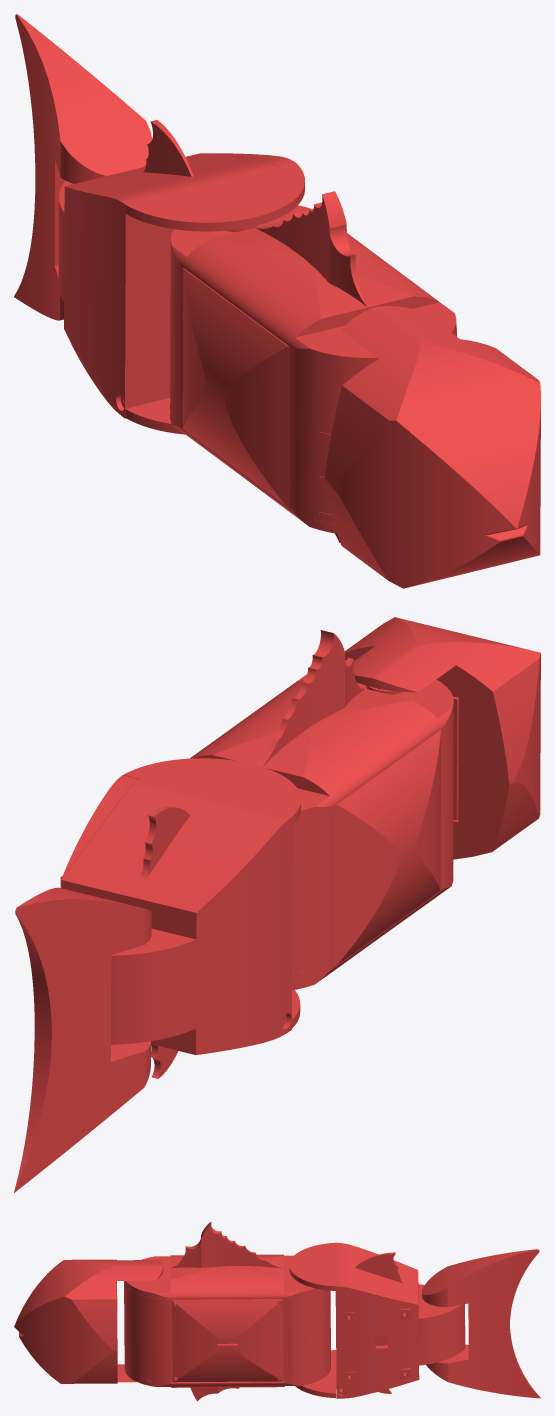
3 renders of one model, top to bottom at view 1: azimuth 30°, elevation 25°; view 2: azimuth 150°, elevation 25°; view 3: azimuth 270°, elevation 25°, orthographic. The views are drawn at different scales.
Parts seen in each view (by area): view 1: 上面 (1), Body16, Body18.001, 右デザイン追加壁, Body9, Body18, Body14, 頭側の中心ギアパイプ2, Body13, Body113, Body19, Body22 (+5 smaller); view 2: Body9, Body18.001, 上面 (1), 右デザイン追加壁, Body19, 頭側の中心ギアパイプ2, Body16.001, Body14, Body13, Body113, Body16, ネジ蓋横 (+8 smaller); view 3: 上面 (1), Body44, Body9, Body26.001, Body16, Body15, 頭側の中心ギアパイプ2, Body16.001, Body19, Body113, Body13, 上面 (1) (1) (+11 smaller).
Boxes of the visible parts, x1=… form: 上面 (1): x1=170, y1=205, x2=456, y2=523; Body16: x1=343, y1=339, x2=540, y2=588; Body18.001: x1=64, y1=186, x2=173, y2=418; 右デザイン追加壁: x1=182, y1=268, x2=289, y2=506; Body9: x1=14, y1=14, x2=151, y2=319; Body18: x1=396, y1=374, x2=540, y2=526; Body14: x1=325, y1=386, x2=388, y2=580; 頭側の中心ギアパイプ2: x1=171, y1=205, x2=456, y2=366; Body13: x1=125, y1=163, x2=304, y2=231; Body113: x1=255, y1=191, x2=366, y2=306; Body19: x1=65, y1=153, x2=278, y2=204; Body22: x1=397, y1=360, x2=536, y2=527; Body9: x1=14, y1=887, x2=151, y2=1192; Body18.001: x1=61, y1=817, x2=292, y2=1054; 上面 (1): x1=192, y1=674, x2=453, y2=981; 右デザイン追加壁: x1=334, y1=730, x2=440, y2=965; Body19: x1=61, y1=779, x2=292, y2=912; 頭側の中心ギアパイプ2: x1=190, y1=679, x2=453, y2=820; Body16.001: x1=111, y1=928, x2=196, y2=1044; Body14: x1=493, y1=658, x2=539, y2=851; Body13: x1=123, y1=758, x2=301, y2=824; Body113: x1=255, y1=630, x2=365, y2=766; Body16: x1=345, y1=617, x2=540, y2=817; ネジ蓋横: x1=445, y1=685, x2=484, y2=837; 上面 (1): x1=124, y1=1254, x2=330, y2=1383; Body44: x1=172, y1=1299, x2=283, y2=1382; Body9: x1=422, y1=1249, x2=540, y2=1398; Body26.001: x1=336, y1=1286, x2=419, y2=1398; Body16: x1=14, y1=1259, x2=116, y2=1383; Body15: x1=71, y1=1299, x2=117, y2=1383; 頭側の中心ギアパイプ2: x1=124, y1=1254, x2=321, y2=1298; Body16.001: x1=418, y1=1284, x2=465, y2=1365; Body19: x1=335, y1=1242, x2=418, y2=1304; Body113: x1=171, y1=1222, x2=283, y2=1268; Body13: x1=289, y1=1242, x2=335, y2=1290; 上面 (1) (1): x1=124, y1=1364, x2=330, y2=1387.
Bounding box in the file's own units: 1.12 × 1.9 × 5.1.
